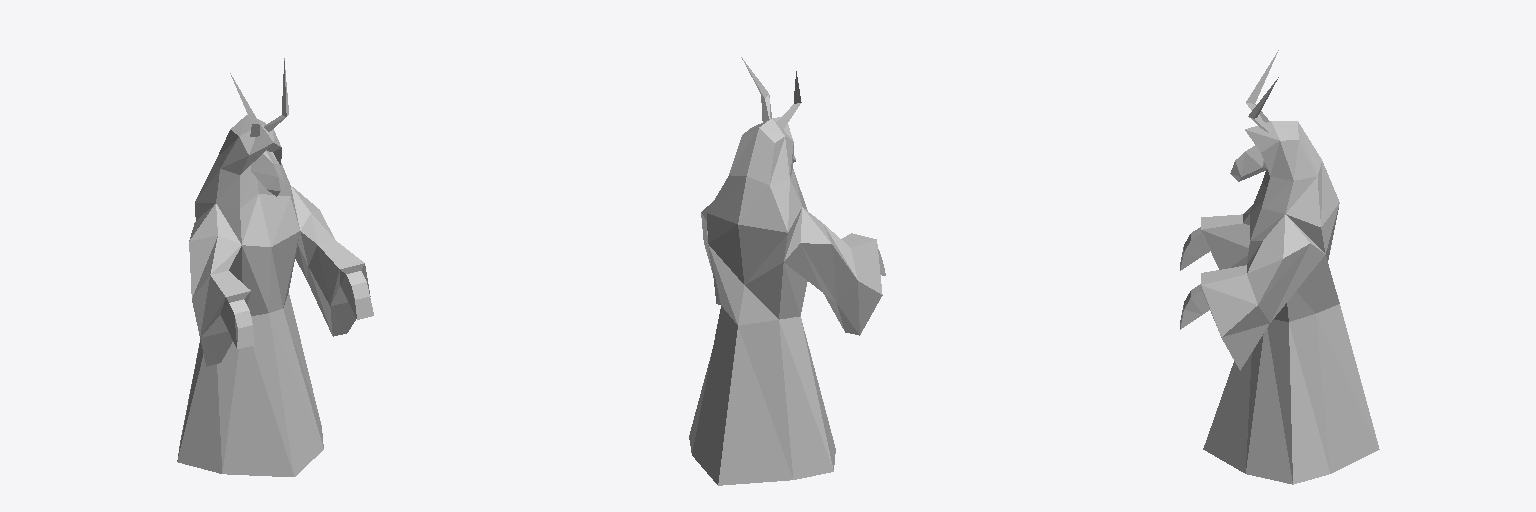
File: druid.obj
The picture shows the model from 3 angles: view 1: azimuth 30°, elevation 25°; view 2: azimuth 150°, elevation 25°; view 3: azimuth 270°, elevation 25°; orthographic projection.
Parts seen in each view (by area): view 1: Cube, Sphere; view 2: Cube, Sphere; view 3: Cube, Sphere.
Boxes of the visible parts, x1=… form: Cube: x1=177, y1=115, x2=373, y2=476; Sphere: x1=230, y1=58, x2=288, y2=196; Cube: x1=689, y1=117, x2=885, y2=485; Sphere: x1=741, y1=57, x2=801, y2=162; Cube: x1=1180, y1=121, x2=1379, y2=484; Sphere: x1=1230, y1=50, x2=1278, y2=181.
Size of the model in its own units: 2.23 by 4.84 by 2.26.